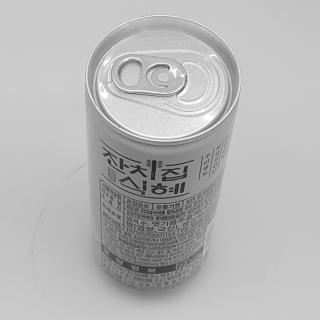alumunium_can: (74, 12, 246, 304)
